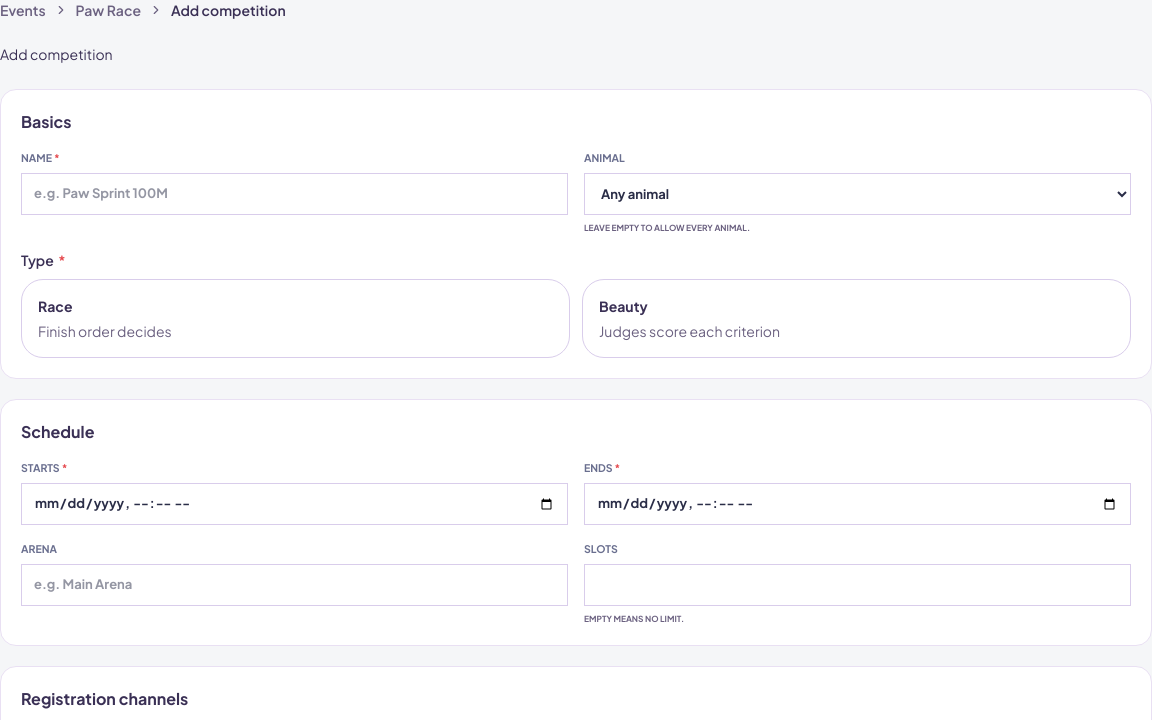
Test: CompetitionCreatePage › only shows the criteria builder for judged types
The width and height of the screenshot is (1152, 720).
What coordinates should you click on to do the following:
click the text "Race"
I would click on:
 (55, 306)
Its box is [38,297,72,315].
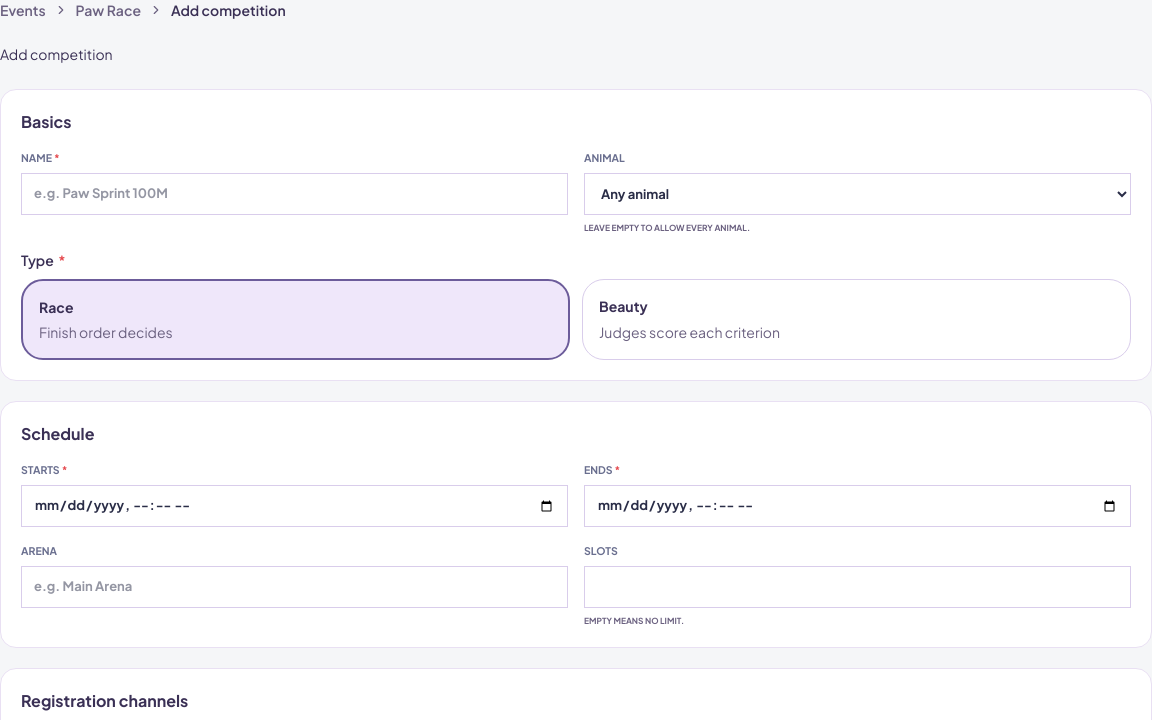
Expected: the text "Scoring criteria" is not shown
What coordinates should you click on to do the following:
click the text "Beauty"
I would click on:
 (623, 306)
Its box is [599,297,648,315].
(page scrolled)
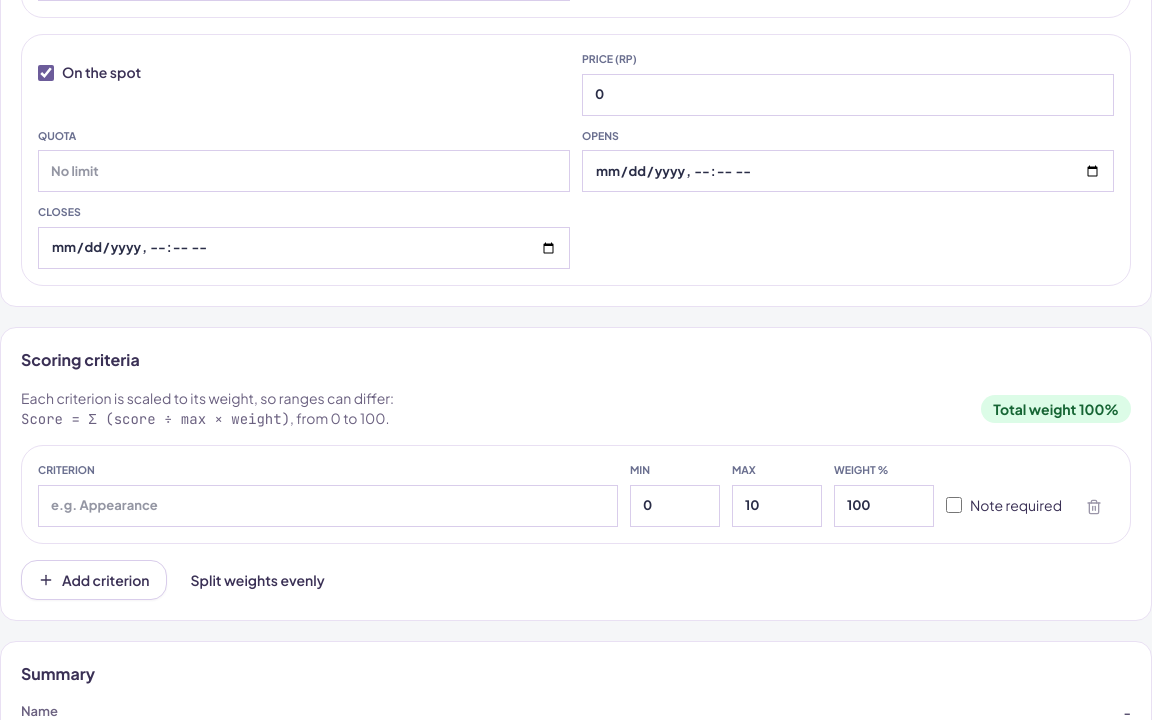
Now the heading "Scoring criteria" is shown, box [21,348,140,372]
